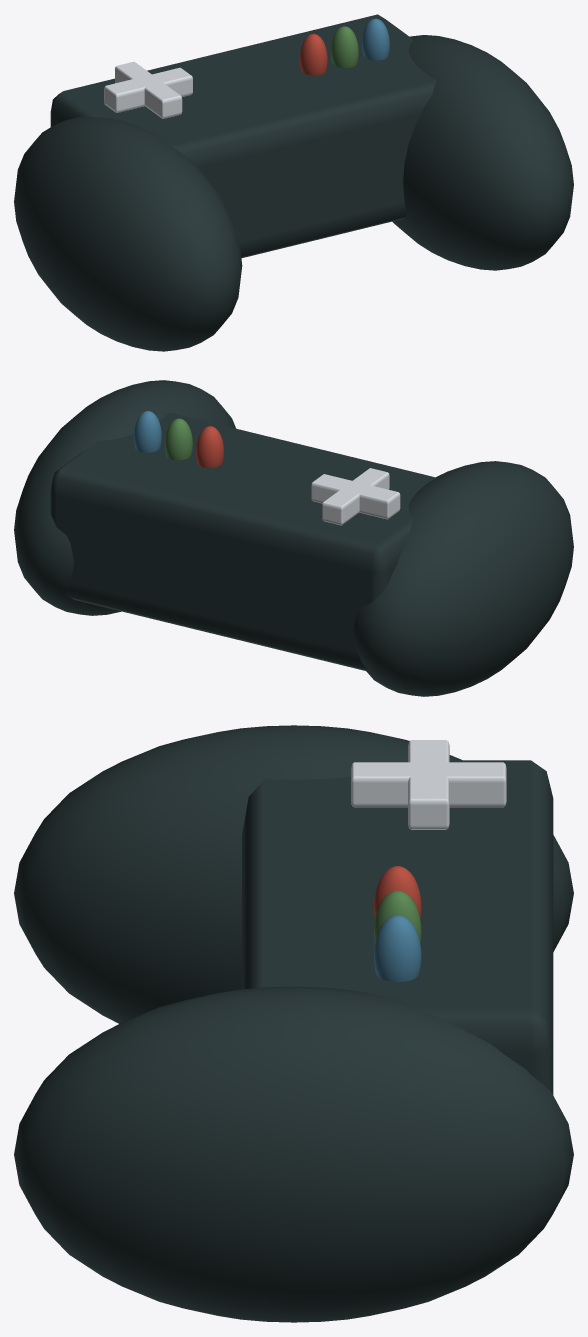
File: wp-manette-de-jeu.glb
The picture shows the model from 3 angles, top to bottom: view 1: azimuth 30°, elevation 25°; view 2: azimuth 150°, elevation 25°; view 3: azimuth 270°, elevation 25°; orthographic projection. The views are drawn at different scales.
Parts seen in each view (by area): view 1: wp-manette-de-jeu; view 2: wp-manette-de-jeu; view 3: wp-manette-de-jeu.
Boxes of the visible parts, x1=… form: wp-manette-de-jeu: x1=14, y1=14, x2=573, y2=351; wp-manette-de-jeu: x1=14, y1=380, x2=573, y2=696; wp-manette-de-jeu: x1=14, y1=725, x2=573, y2=1322.
Bounding box in the file's own units: 0.16 × 0.07 × 0.1.
